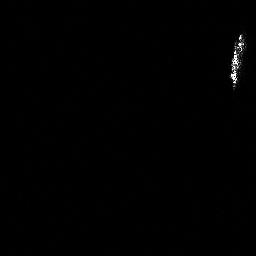ship: (225, 30, 249, 92)
